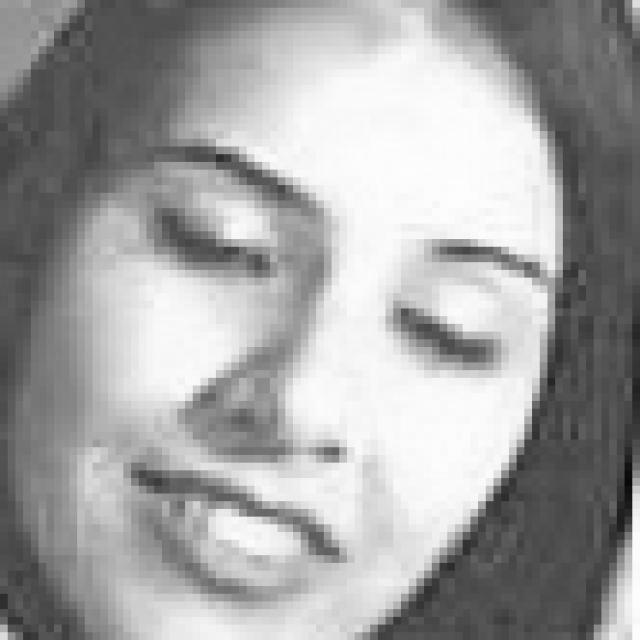real: (59, 18, 559, 624), (136, 163, 521, 382)
